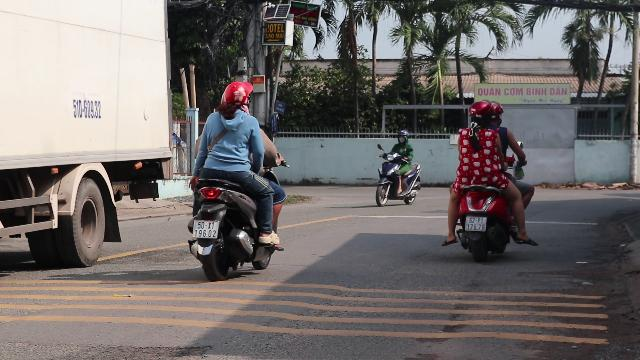helmet: (218, 80, 252, 114), (468, 100, 494, 128), (484, 100, 504, 127)
licenseplate: (194, 220, 218, 238), (466, 217, 486, 231)
motorcyclist: (182, 78, 288, 280), (440, 98, 534, 260)
